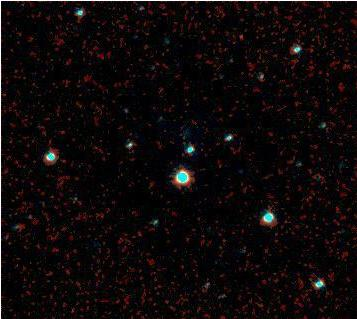star: (230, 24, 260, 54)
